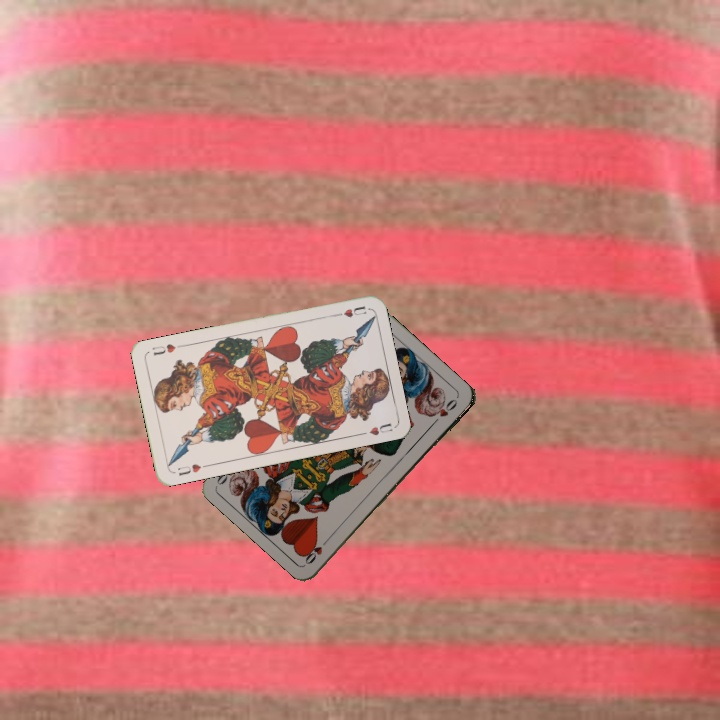HO: (301, 533, 333, 567)
HU: (330, 302, 368, 320), (174, 460, 204, 478)
